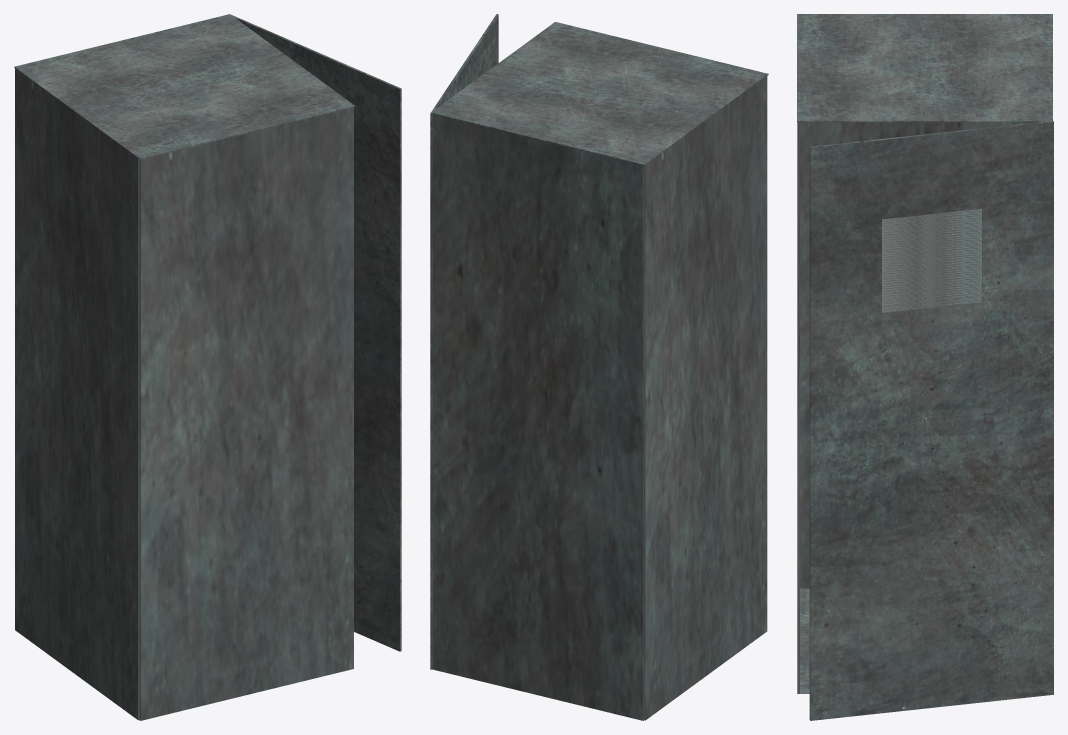
File: SewerLockerGlideOpen.fbx
3 renders of one model, left to right at view 1: azimuth 30°, elevation 25°; view 2: azimuth 150°, elevation 25°; view 3: azimuth 270°, elevation 25°, orthographic. The views are drawn at different scales.
Visible parts, largest first — view 1: Cube.001, Cube, Cube.003, Plane.001; view 2: Cube.002, Cube, Plane.001, Cube.003; view 3: Cube.003, Plane.001, Cube, Cube.001, Plane.
Boxes of the visible parts, box(x1,y1,x2,y2) form: Cube.001: box(139, 107, 353, 720); Cube: box(15, 68, 139, 720); Cube.003: box(231, 14, 401, 651); Plane.001: box(14, 14, 355, 159); Cube.002: box(433, 114, 644, 720); Cube: box(644, 75, 767, 720); Plane.001: box(431, 22, 768, 165); Cube.003: box(430, 14, 498, 669); Cube.003: box(809, 121, 1053, 720); Plane.001: box(797, 14, 1052, 122); Cube: box(800, 122, 1034, 588); Cube.001: box(797, 122, 799, 693); Plane: box(800, 588, 809, 693).
Bounding box in the file's own units: 611 × 1222 × 496.
